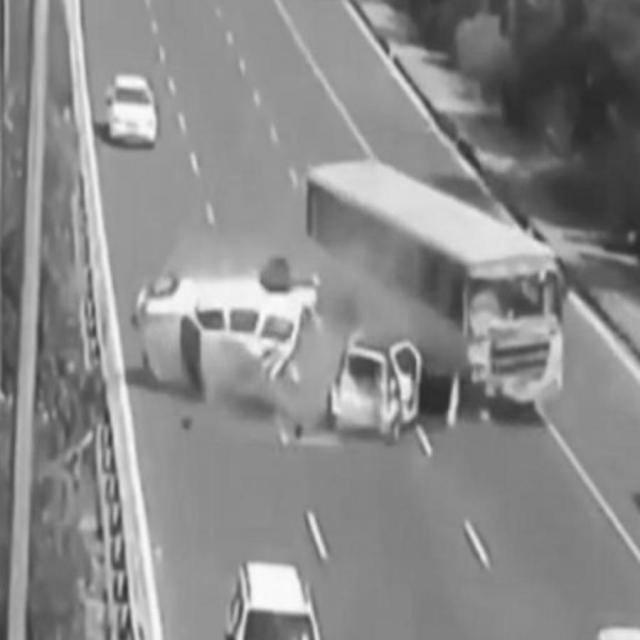accident: (135, 266, 425, 433), (223, 557, 324, 640)
vehicle: (300, 166, 563, 406), (102, 71, 160, 147)
